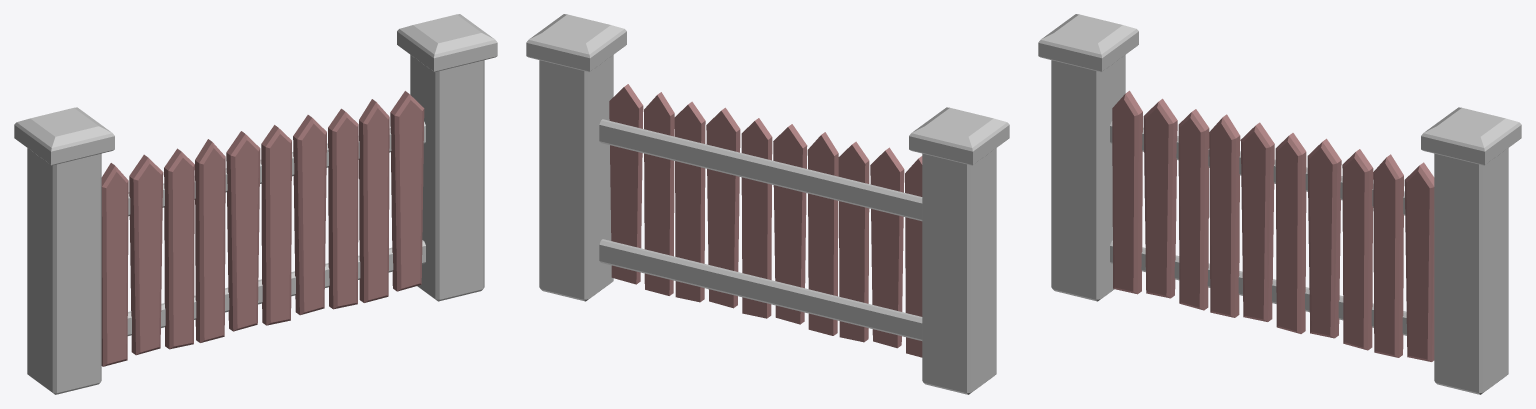
Rendered from fp_fence_a.glb.
3 renders of one model, left to right at view 1: azimuth 30°, elevation 25°; view 2: azimuth 150°, elevation 25°; view 3: azimuth 330°, elevation 25°, orthographic.
Size of the model in its own units: 0.9986 by 0.5515 by 0.143.
